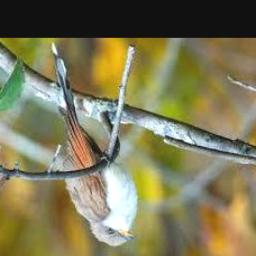Cuckoo: (52, 42, 137, 247)
